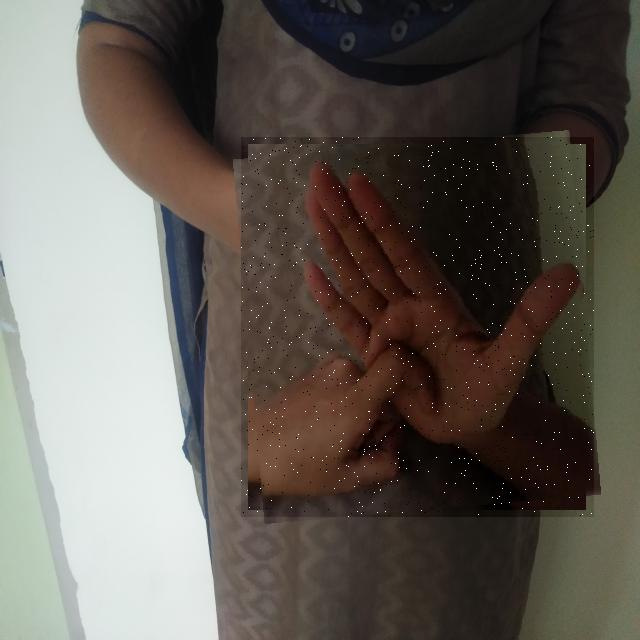R: (241, 137, 594, 517)
